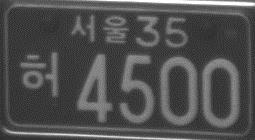0: (199, 56, 241, 129), (158, 54, 198, 126)
3: (134, 14, 160, 48)
4: (76, 52, 115, 125)
5: (118, 52, 155, 124), (164, 15, 189, 49)
서울_O: (70, 13, 130, 46)
허: (19, 49, 60, 98)
